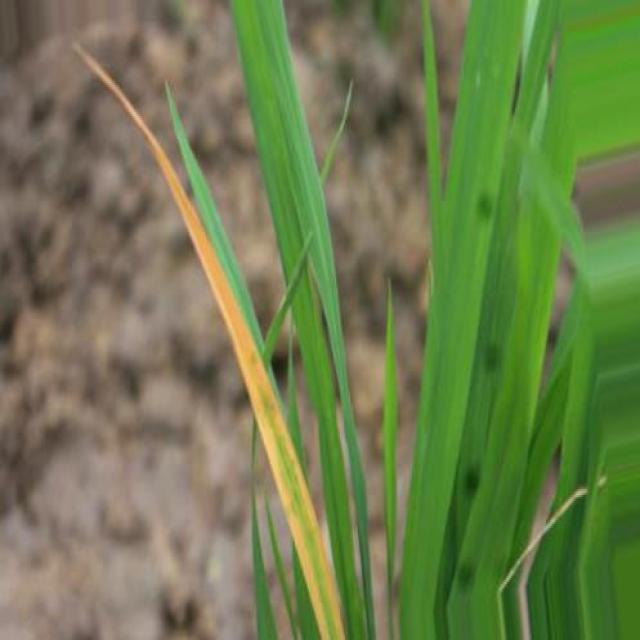Rice Tungro: (75, 43, 342, 639)
